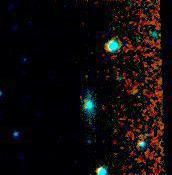star: (70, 63, 100, 93)
